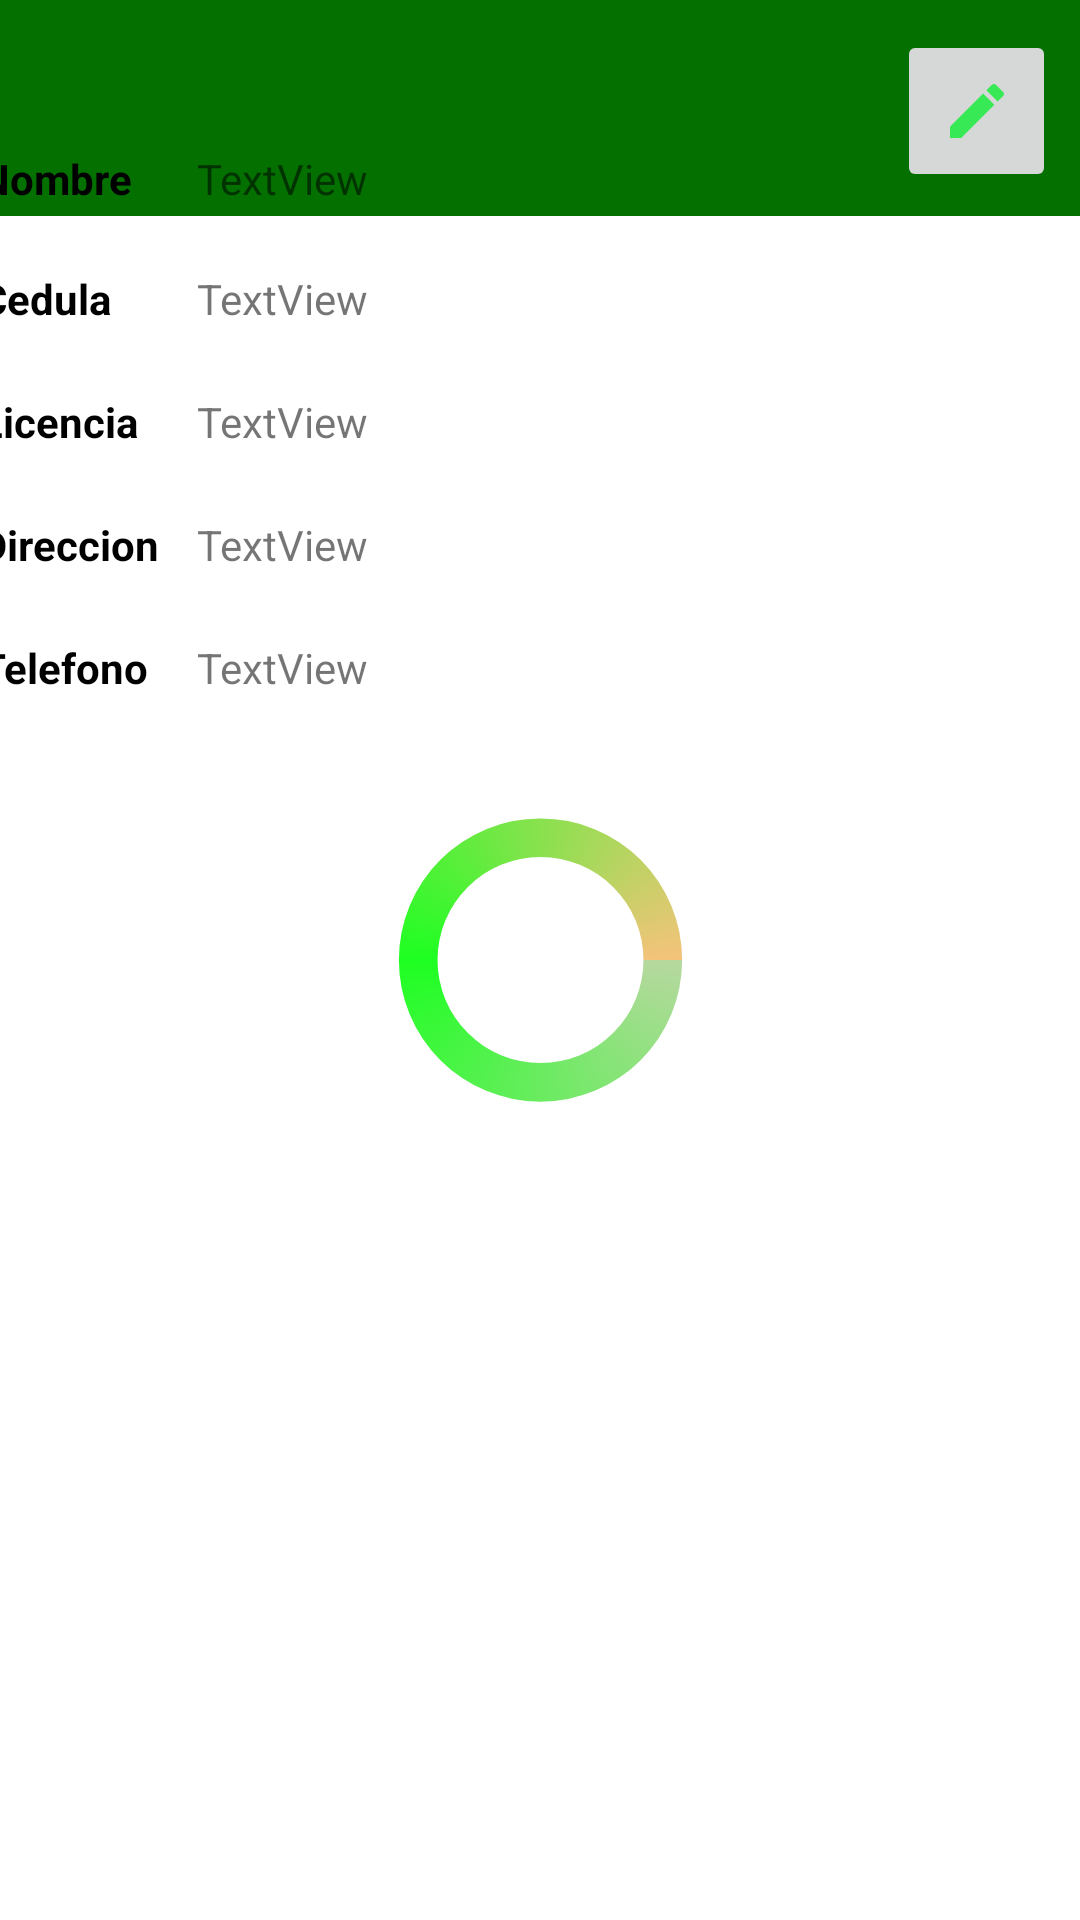

Icons on this 1080x1920 Android screen, each with its box as (x1, y1, x2, y2):
Editar Info: (909, 48, 1044, 174)
